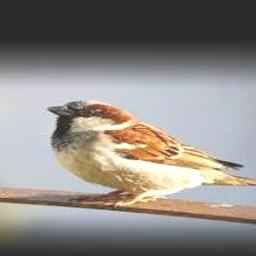Sparrow: (48, 100, 256, 206)
